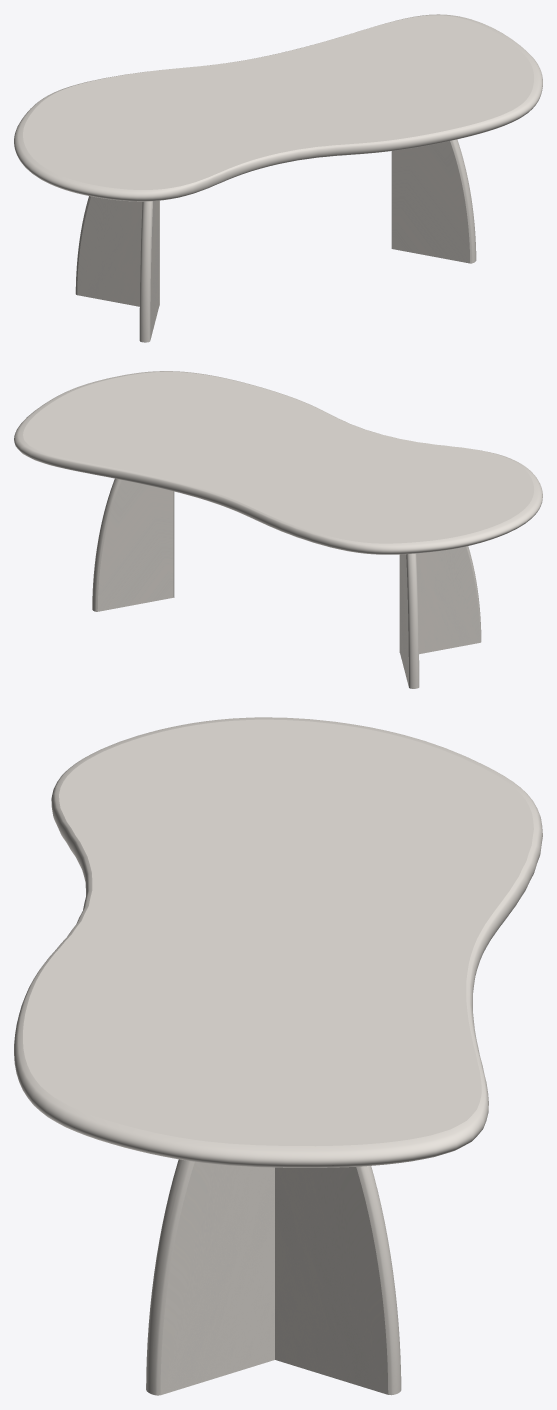
The model's file is pearlwhite_wave_round_newtable2.glb.
3 renders of one model, top to bottom at view 1: azimuth 30°, elevation 25°; view 2: azimuth 150°, elevation 25°; view 3: azimuth 270°, elevation 25°, orthographic. The views are drawn at different scales.
Visible parts, largest first — view 1: round_wave, newtable2_singleright2, newtable2_singleleft1, newtable2_singleright1; view 2: round_wave, newtable2_singleleft2, newtable2_singleright1, newtable2_singleleft1; view 3: round_wave, newtable2_singleright2, newtable2_singleleft2.
Part boxes in pixels (x1,y1,x2,y2): round_wave: (14, 14, 542, 201); newtable2_singleright2: (391, 139, 476, 263); newtable2_singleleft1: (75, 196, 159, 306); newtable2_singleright1: (139, 200, 159, 342); round_wave: (14, 371, 542, 554); newtable2_singleleft2: (92, 478, 173, 611); newtable2_singleright1: (399, 546, 481, 654); newtable2_singleleft1: (400, 553, 419, 688); round_wave: (14, 717, 542, 1167); newtable2_singleright2: (146, 1159, 274, 1395); newtable2_singleleft2: (275, 1166, 401, 1395).
Bounding box in the file's own units: 7.5 × 2.49 × 3.8.
Materials: 1 (1 with a texture image).
